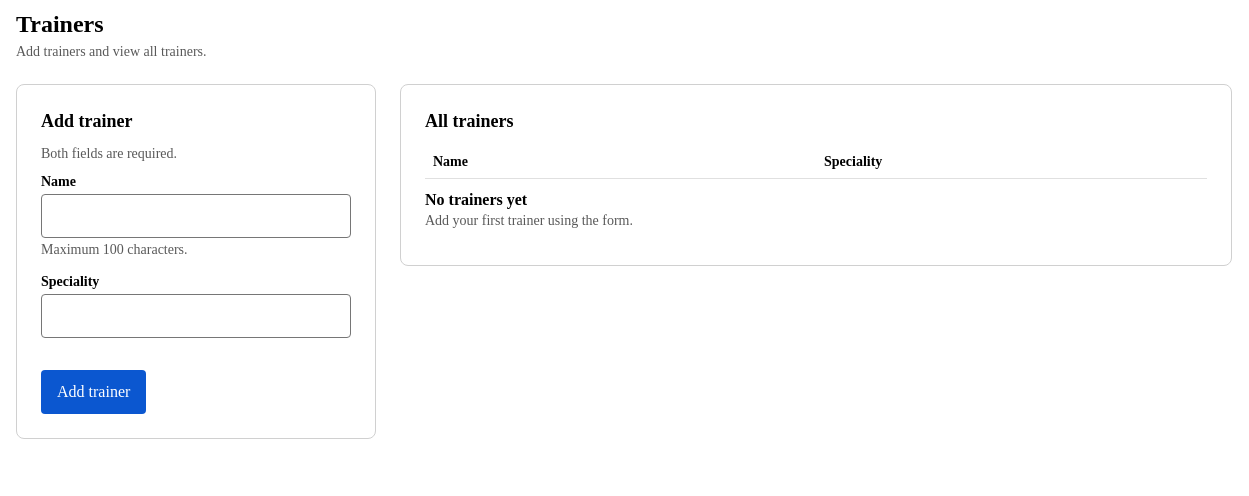
Scenario: Trainers page (FIT-941 T2) › Trainers / Validation Error (AC-008, AC-009, AC-010) › corrected values submit normally and clear the field errors
Click the submit button at (94, 392), box [41,370,146,414]
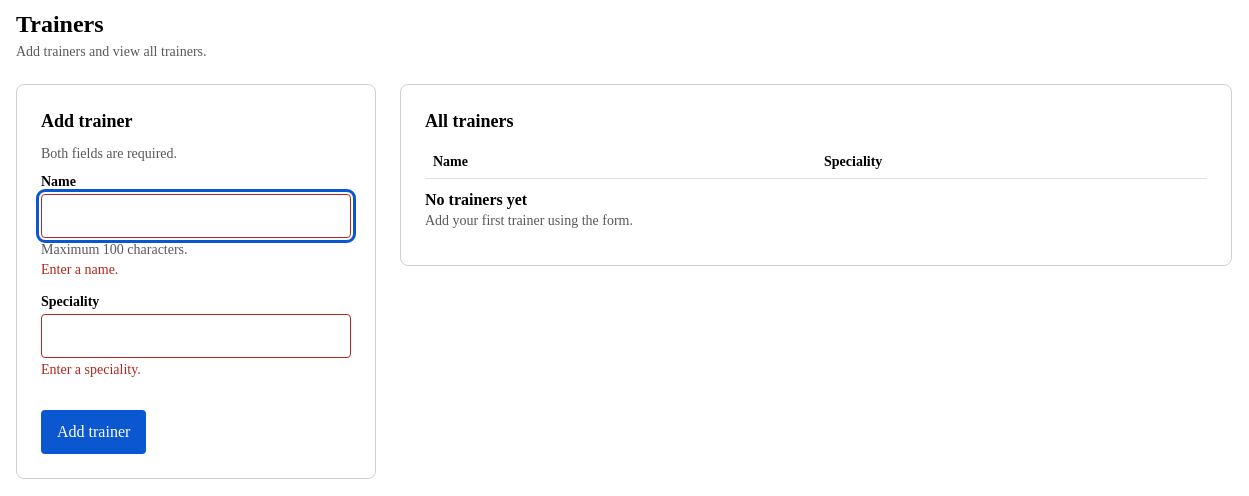
Type "Sofia García" into the field labelled "Name" at (196, 216), box [41,194,351,238]
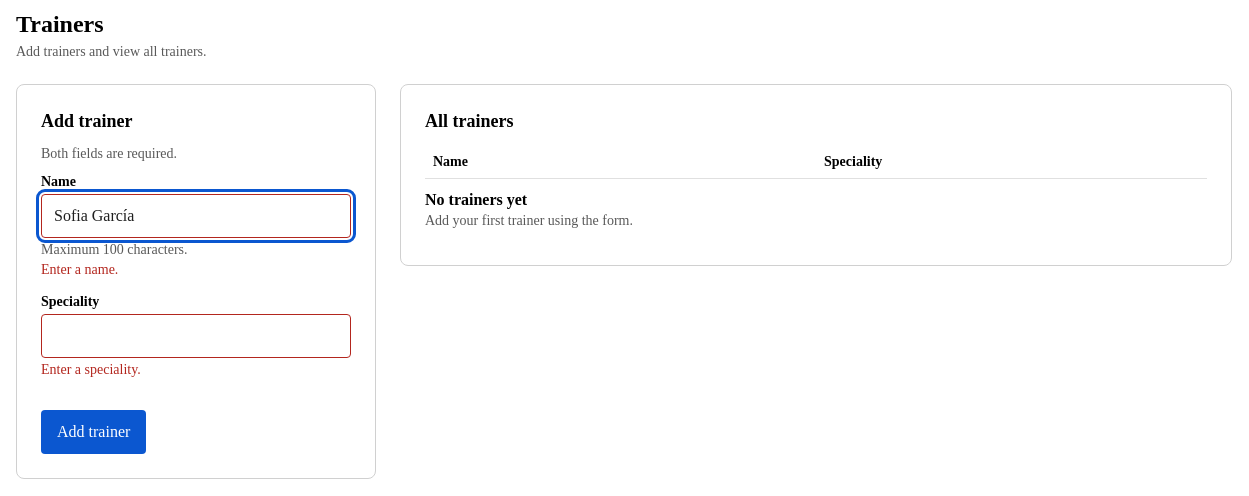
Type "Pilates" into the field labelled "Speciality" at (196, 336), box [41,314,351,358]
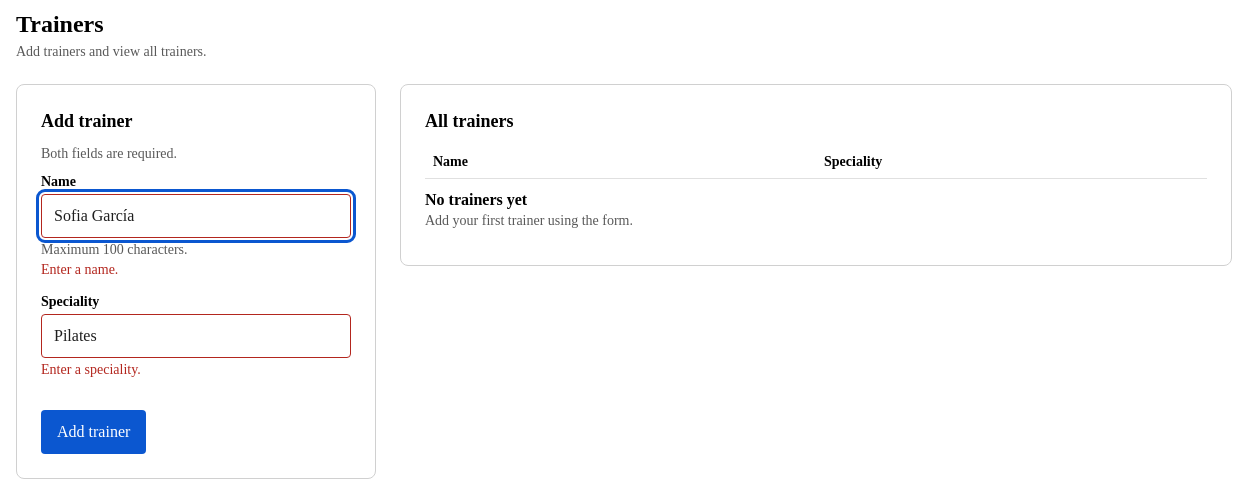
Click the submit button at (94, 432), box [41,410,146,454]
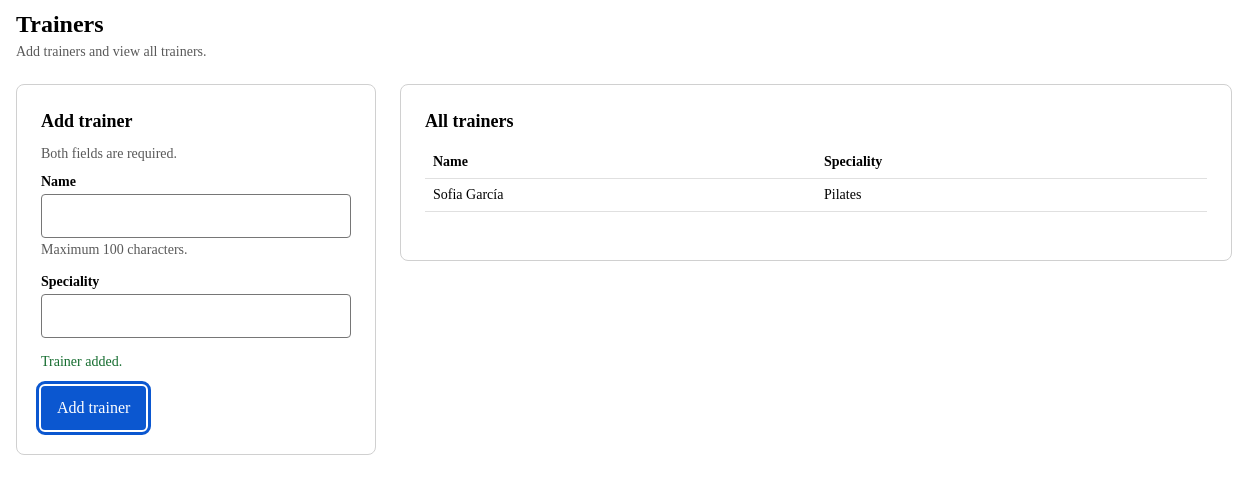
Now the text "Trainer added." is shown, box [41,354,122,369]
Now the text "Enter a name." is gone
